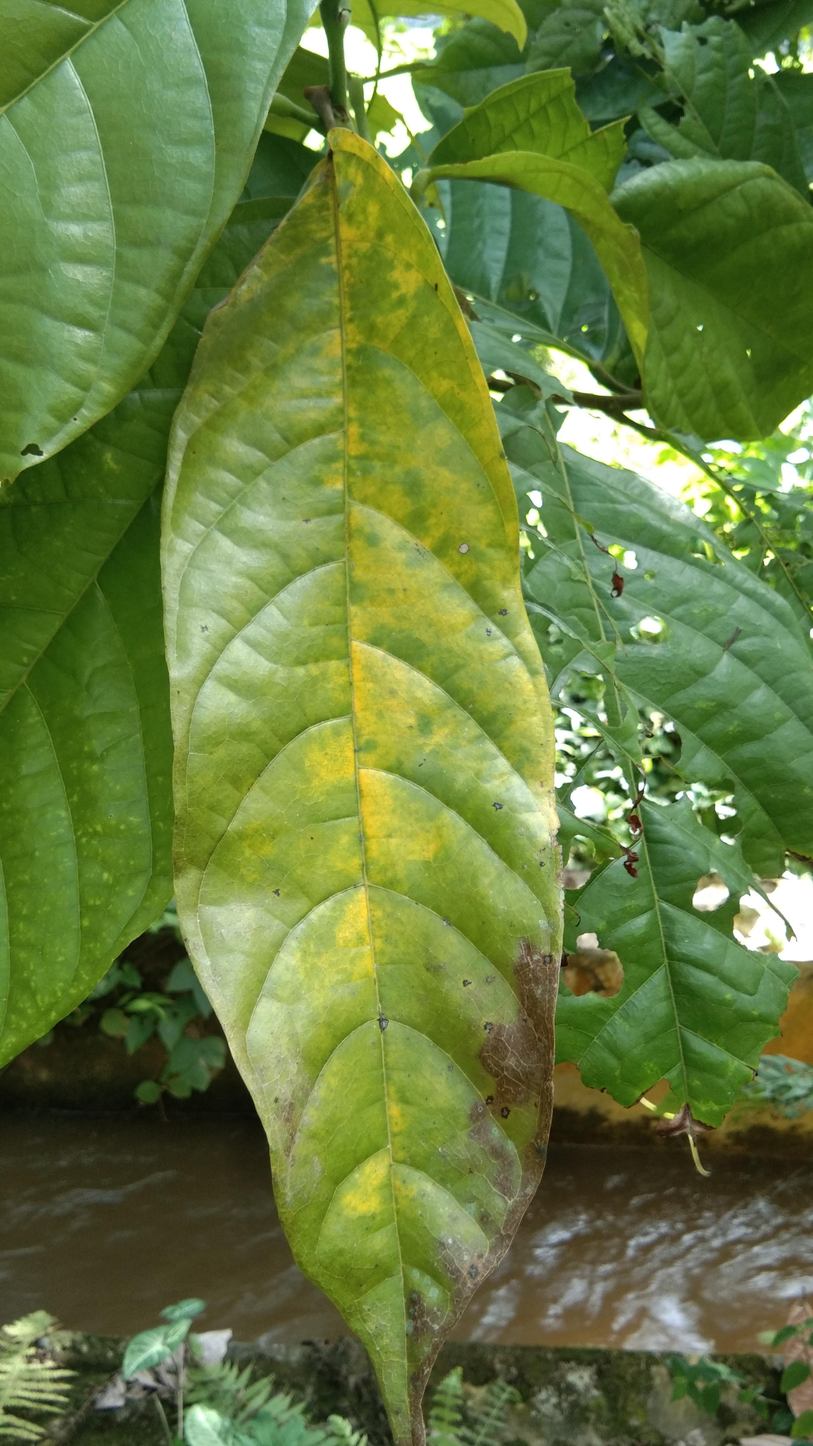deficiencia_potasio: (167, 184, 552, 1446)
